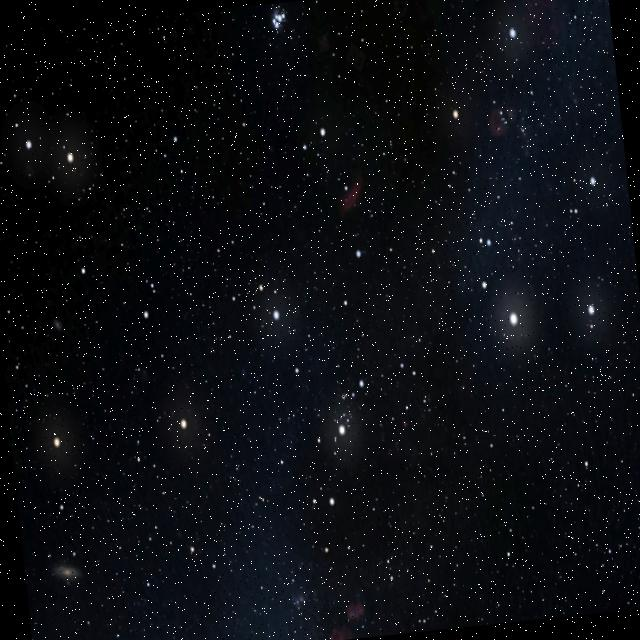Perseus: (213, 121, 398, 564)
